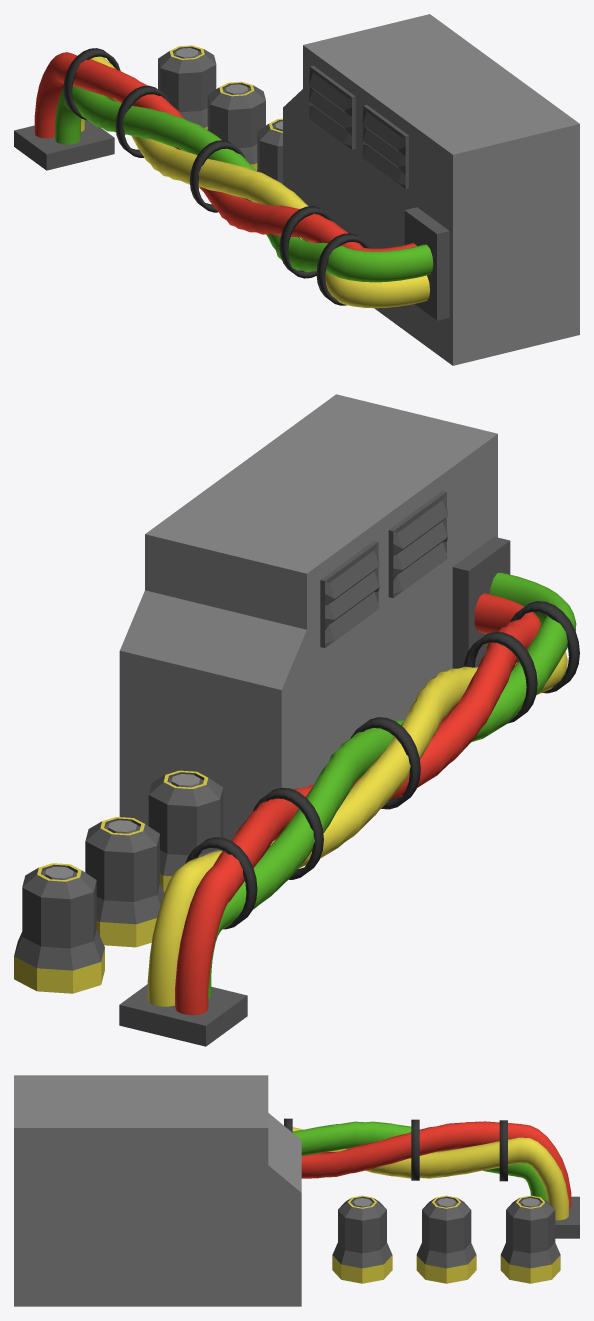
Rendered from bigWires.glb.
The picture shows the model from 3 angles, top to bottom: view 1: azimuth 30°, elevation 25°; view 2: azimuth 150°, elevation 25°; view 3: azimuth 270°, elevation 25°; orthographic projection. The views are drawn at different scales.
Visible parts, largest first — view 1: Big Wires; view 2: Big Wires; view 3: Big Wires.
Part boxes in pixels (box(x1,y1,x2,y2)): Big Wires: box(14, 14, 579, 365); Big Wires: box(14, 394, 579, 1046); Big Wires: box(14, 1075, 579, 1306).
Bounding box in the file's own units: 1.58 × 1.37 × 3.94.
